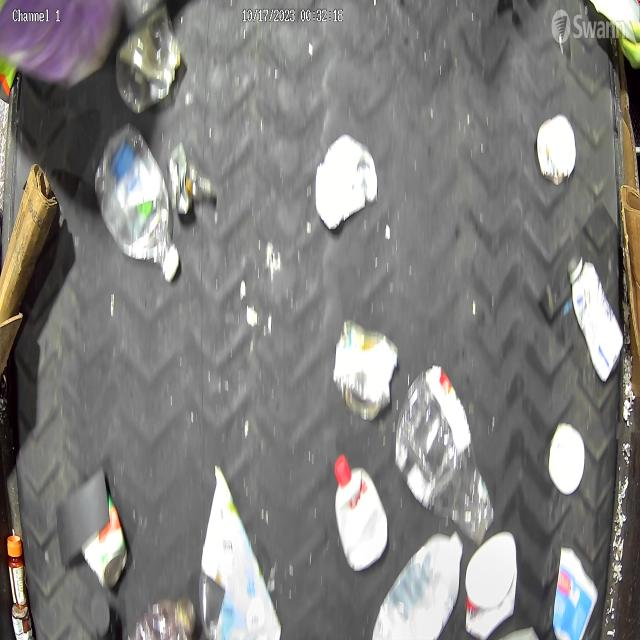can: (82, 492, 127, 589)
plastic_bottle: (396, 362, 495, 541), (96, 128, 178, 282), (125, 596, 195, 640)
